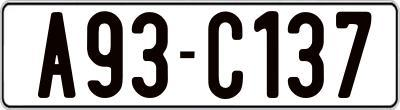1: (254, 8, 279, 101)
3: (286, 10, 326, 100), (132, 12, 169, 100)
7: (333, 12, 370, 102)
9: (87, 10, 129, 102)
A: (35, 11, 75, 98)
C: (206, 11, 245, 99)
